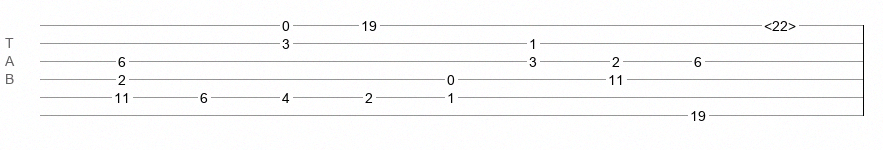0: (282, 18, 290, 28), (447, 72, 455, 82)
1: (447, 90, 455, 100), (529, 36, 537, 46)
11: (114, 90, 130, 100), (608, 72, 624, 82)
19: (361, 18, 377, 28), (690, 108, 706, 118)
2: (118, 72, 126, 82), (365, 90, 373, 100), (612, 54, 620, 64)
3: (282, 36, 290, 46), (529, 54, 537, 64)
4: (282, 90, 290, 100)
6: (118, 54, 126, 64), (200, 90, 208, 100), (694, 54, 702, 64)
harmonic: (764, 18, 796, 28)
